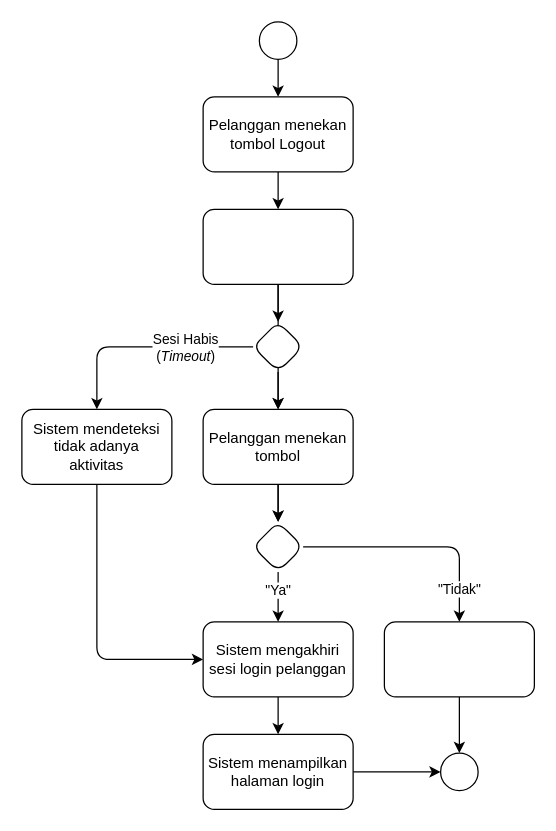
Image size: 556x831. Some labels were removed from this diagram. The shapes that lost their labels are listed below. From the top down, each one's box as (x1, y1, x2, y2) in pixels, then its label:
(202, 208, 353, 284): Sistem menampilkan dialog konfirmasi
(383, 621, 534, 697): Sistem menutup dialog dan tetap berada di halaman
